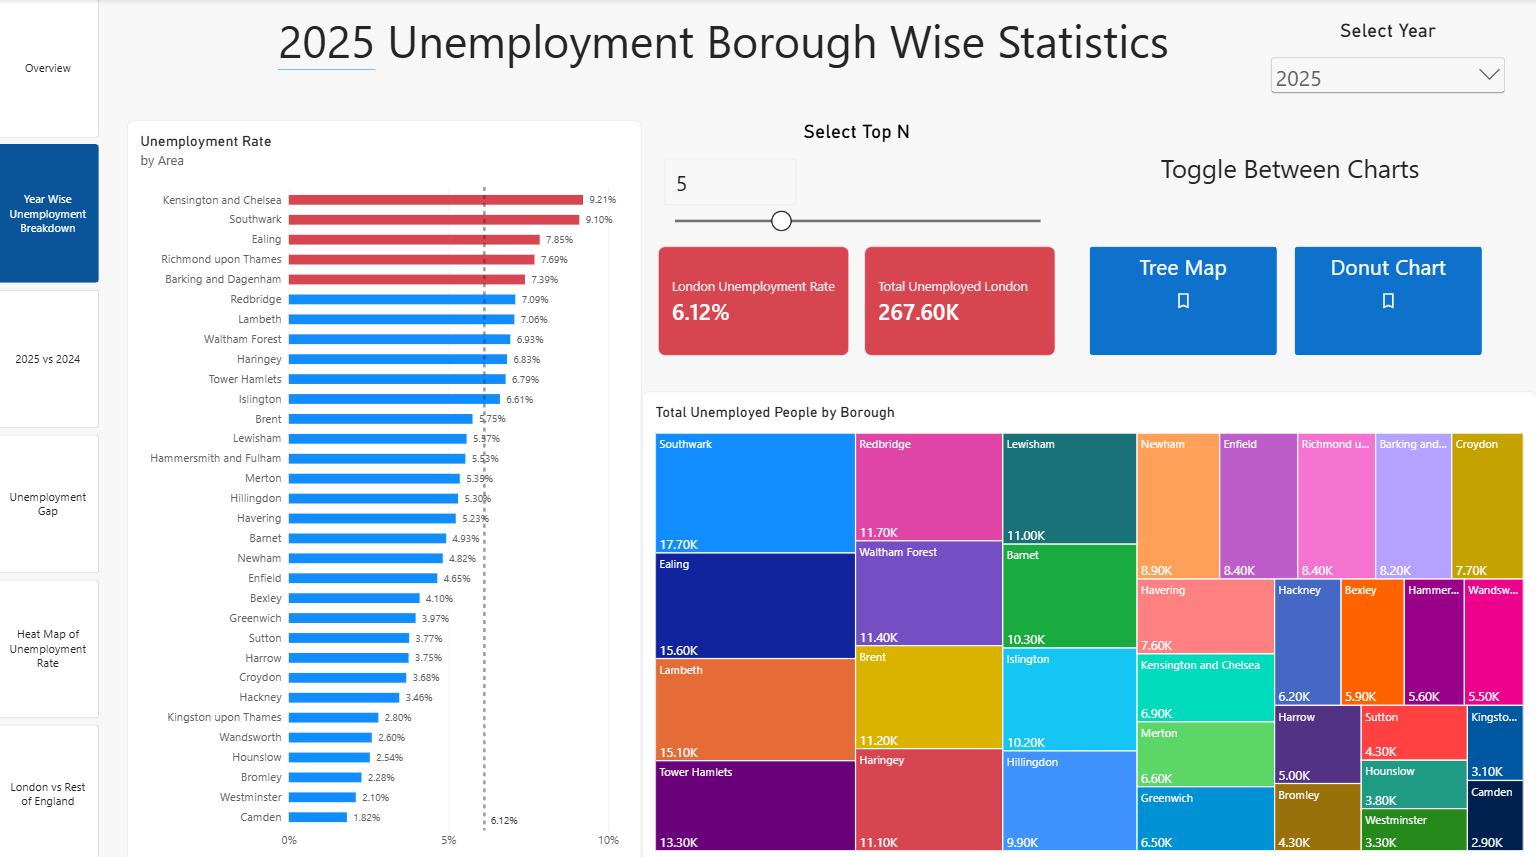

This screenshot's page, from the dashboard's own definition file:
{"tool":"powerbi","page":{"name":"Year Wise Unemployment Breakdown","canvas":[1920,1080],"ordinal":1},"visuals":[{"type":"clusteredBarChart","fields":{"Category":["All_data.Area"],"Y":["All_data.Unemployment Rate"]},"box":[162.2,151.7,641.9,929.7],"z":0},{"type":"slicer","title":"Select Year","fields":{"Values":["Date Table.Year"]},"box":[1583.7,24.4,301.7,97.7],"z":1000},{"type":"cardVisual","fields":{"Data":["All_data.London year wise unemployment"]},"box":[825,308.7,239,136],"z":2000},{"type":"treemap","title":"Total Unemployed People by Borough","fields":{"Group":["All_data.Area"],"Values":["All_data.Total Unemployed"]},"box":[804.1,490.1,1116.3,589.5],"z":3000},{"type":"slicer","title":"Select Top N","fields":{"Values":["Top ?.Top ?"]},"box":[825,151.7,495.4,157],"z":4000},{"type":"textbox","box":[350.6,12.2,1191.3,83.7],"z":5000},{"type":"pageNavigator","box":[0,0,127.6,1080.6],"z":6000},{"type":"cardVisual","fields":{"Data":["All_data.Total Unemployed London"]},"box":[1081.4,308.7,239,136],"z":7000},{"type":"actionButton","box":[1362.5,308.7,233.8,135.6],"z":9000},{"type":"actionButton","box":[1618.1,308.7,233.8,135.6],"z":10000},{"type":"textbox","box":[1451.3,188.6,333.6,54.6],"z":11000}]}

Visuals, with their boxes on the page's 1920x1080 design canvas (x1, y1, x2, y2). These are canvas units, not pixel positions in the 1536x857 screenshot, which may show the page scaled, cropped or inside an application window:
clusteredBarChart - All_data.Area x All_data.Unemployment Rate: detection(162, 152, 804, 1081)
"Select Year" slicer: detection(1584, 24, 1885, 122)
cardVisual - All_data.London year wise unemployment: detection(825, 309, 1064, 445)
"Total Unemployed People by Borough" treemap: detection(804, 490, 1920, 1080)
"Select Top N" slicer: detection(825, 152, 1320, 309)
textbox: detection(351, 12, 1542, 96)
pageNavigator: detection(0, 0, 128, 1081)
cardVisual - All_data.Total Unemployed London: detection(1081, 309, 1320, 445)
actionButton: detection(1362, 309, 1596, 444)
actionButton: detection(1618, 309, 1852, 444)
textbox: detection(1451, 189, 1785, 243)
